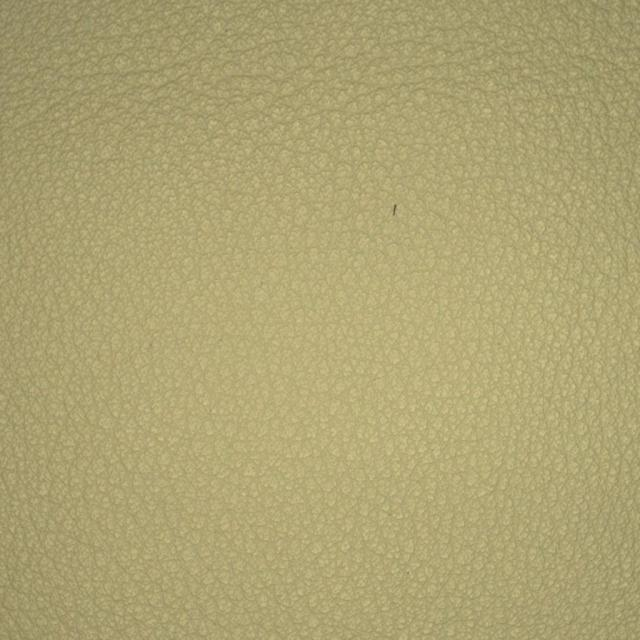pinhole: (338, 152, 454, 275)
